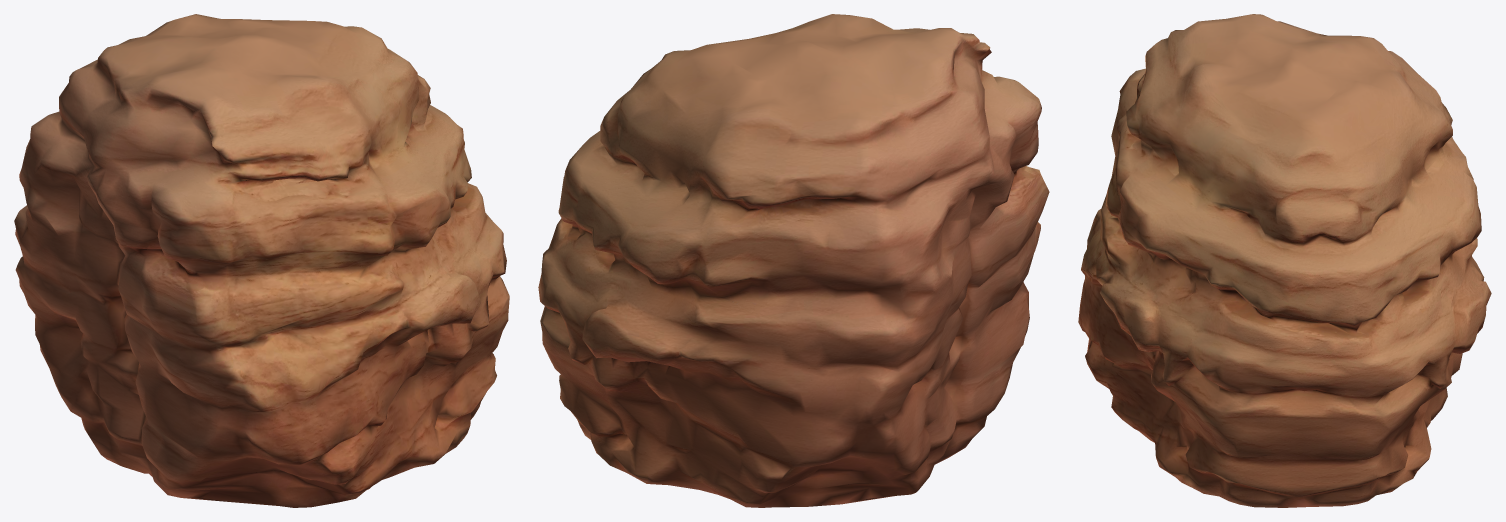
File: original_glb.glb
3 views of the same model, side by side, from view 1: azimuth 30°, elevation 25°; view 2: azimuth 150°, elevation 25°; view 3: azimuth 270°, elevation 25° (orthographic). The views are drawn at different scales.
Visible parts, largest first — view 1: red desert rock; view 2: red desert rock; view 3: red desert rock.
Part boxes in pixels (bbox=[...]): red desert rock: bbox=[14, 14, 509, 507]; red desert rock: bbox=[538, 14, 1049, 507]; red desert rock: bbox=[1078, 14, 1491, 507].
Bounding box in the file's own units: 0.998 × 0.9551 × 0.9785.
1 material, 1 textured.
